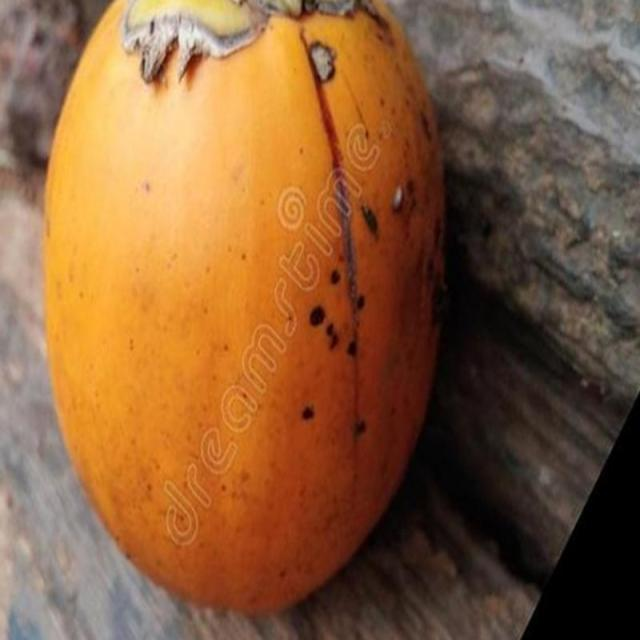good: (42, 0, 450, 621)
